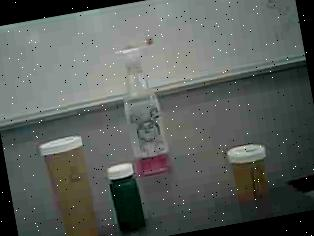Bottle A: (36, 133, 108, 236)
Bottle B: (224, 140, 278, 208)
Bottle C: (102, 158, 152, 236)
hazard: (110, 33, 180, 179)
